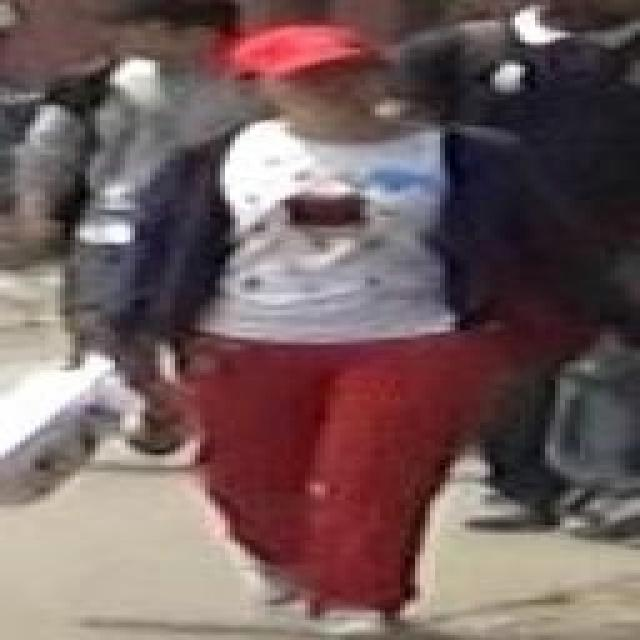adult: (72, 34, 577, 631), (0, 2, 254, 446), (440, 0, 640, 543)
